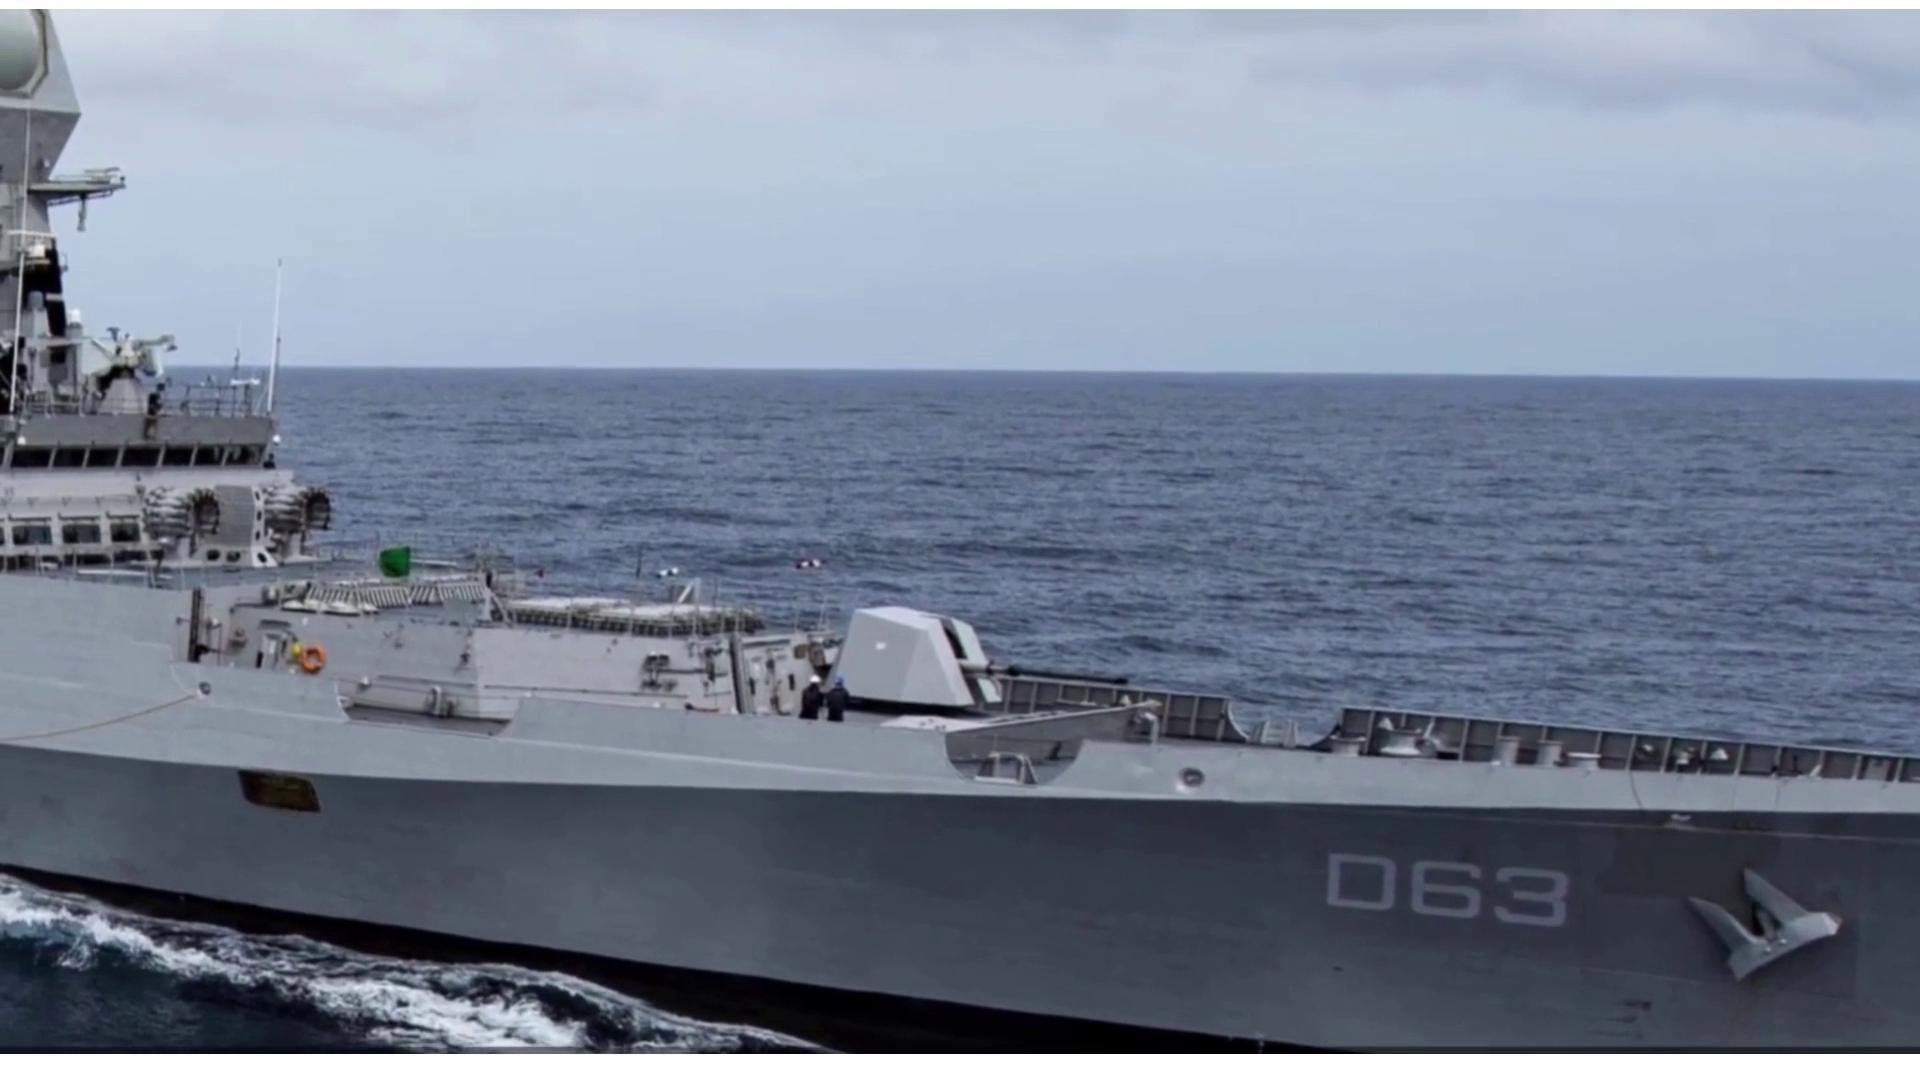OCR: (1306, 837, 1582, 938)
